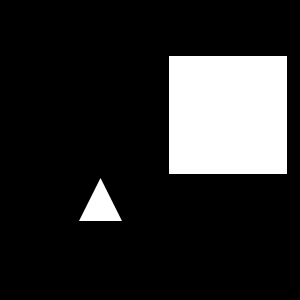circle: (169, 56, 287, 174)
triangle: (187, 97, 243, 153), (79, 178, 122, 221)
